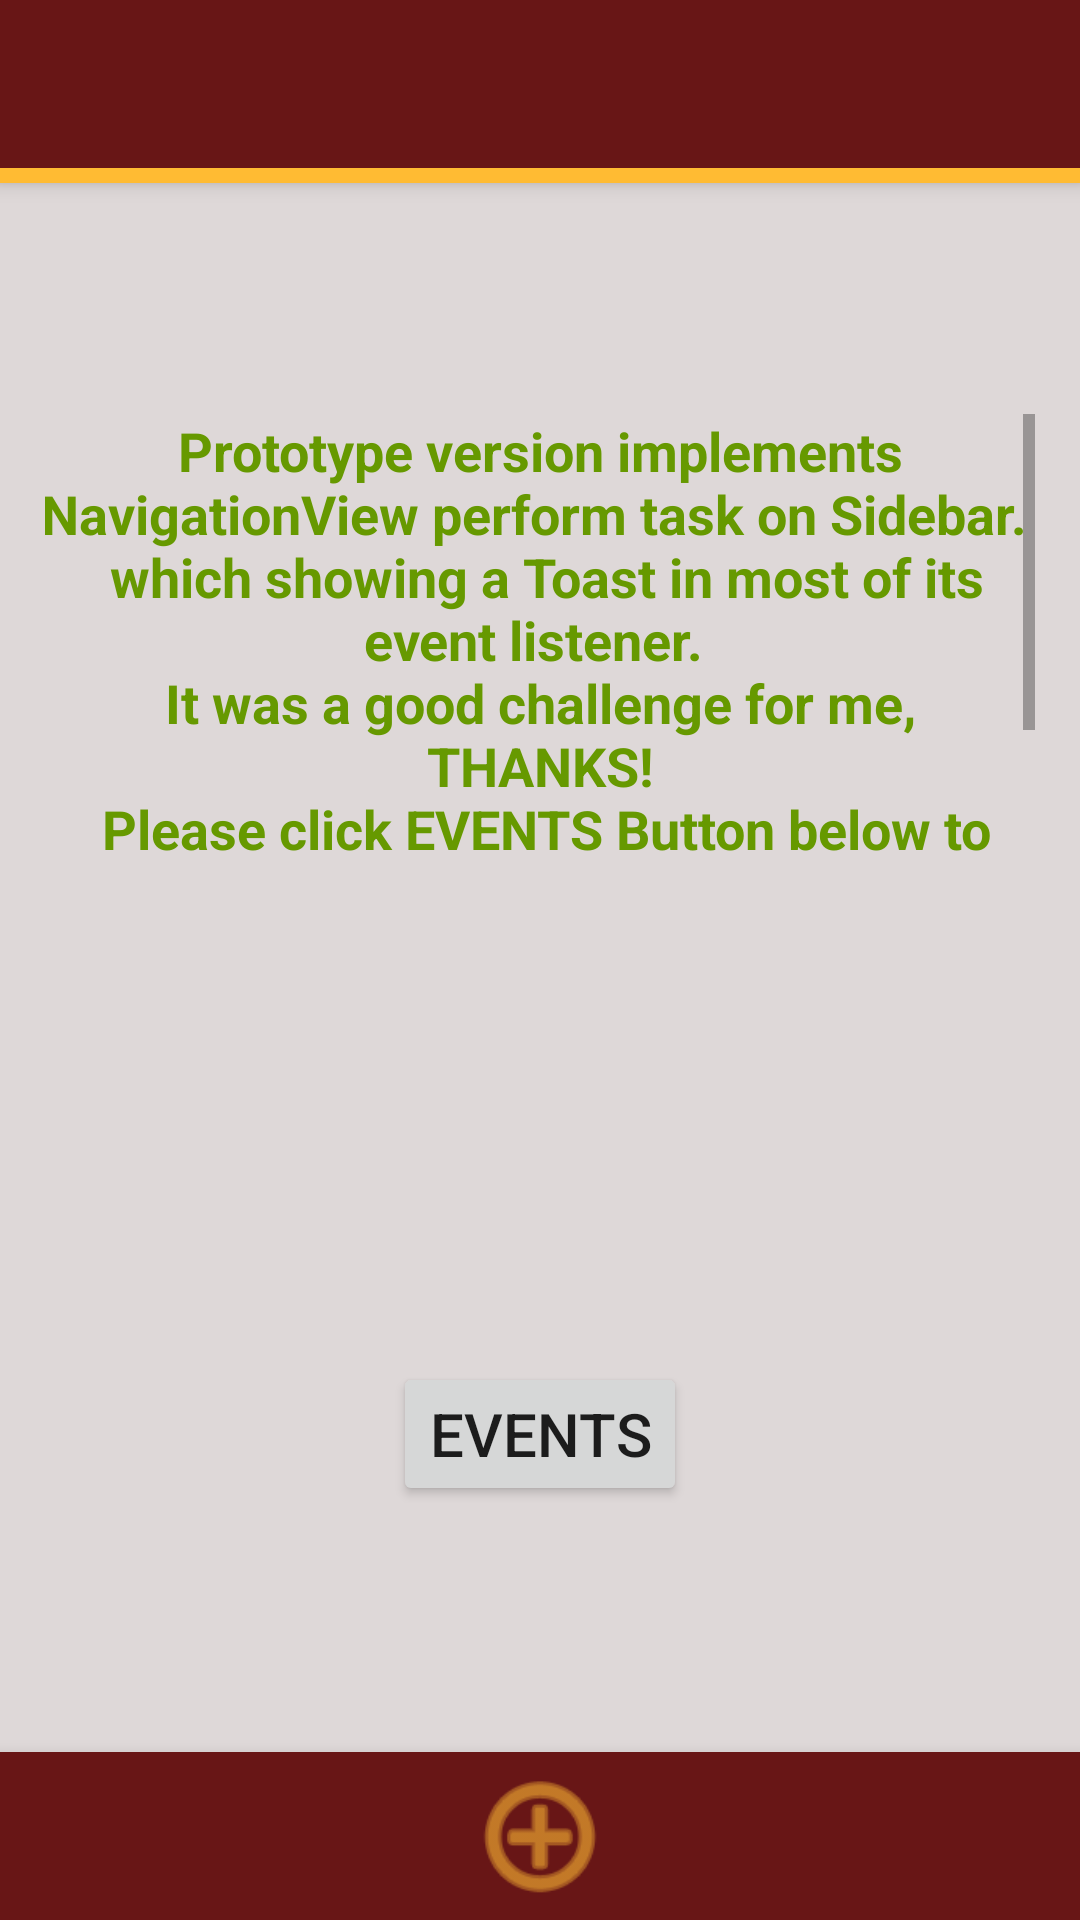

Point at icon controls on the screen. Image size 1080x1920, points as [x,y].
add: [540,1836]
